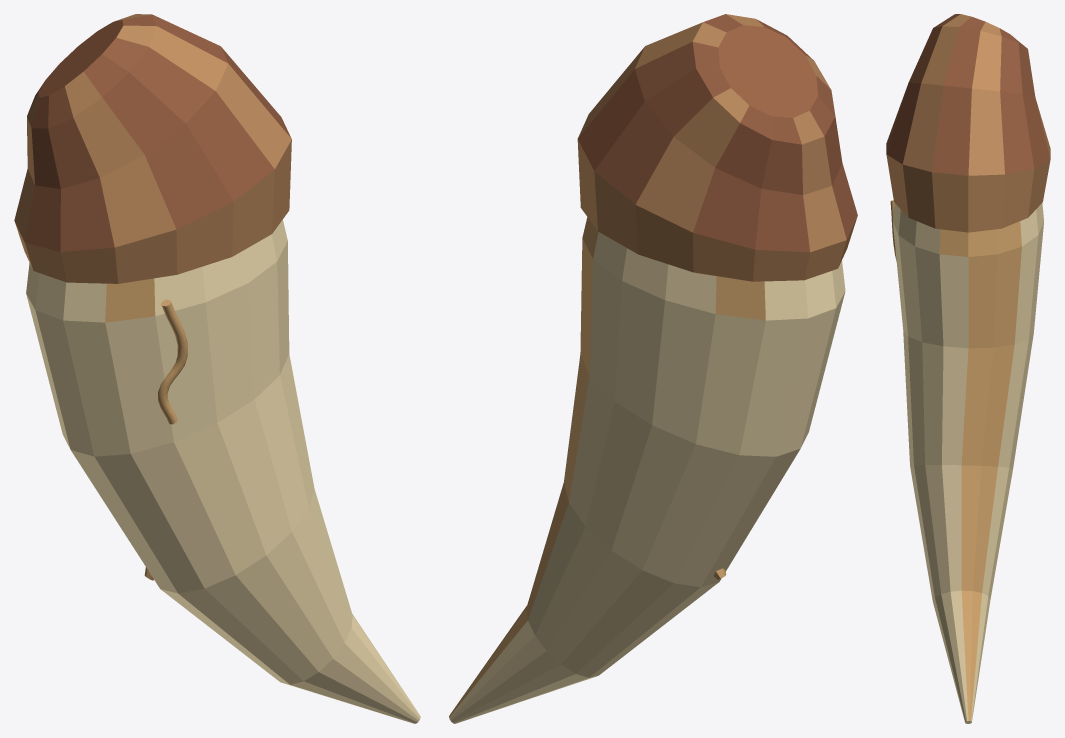
The model's file is Dino_Tooth.glb.
The picture shows the model from 3 angles, left to right: view 1: azimuth 30°, elevation 25°; view 2: azimuth 150°, elevation 25°; view 3: azimuth 270°, elevation 25°; orthographic projection. The views are drawn at different scales.
Visible parts, largest first — view 1: Dino_Tooth; view 2: Dino_Tooth; view 3: Dino_Tooth.
Boxes of the visible parts, x1,y1,x2,y2 form: Dino_Tooth: (14,14,420,723); Dino_Tooth: (449,14,857,723); Dino_Tooth: (886,14,1050,723).
Bounding box in the file's own units: 1.03 × 1.92 × 0.4775.
